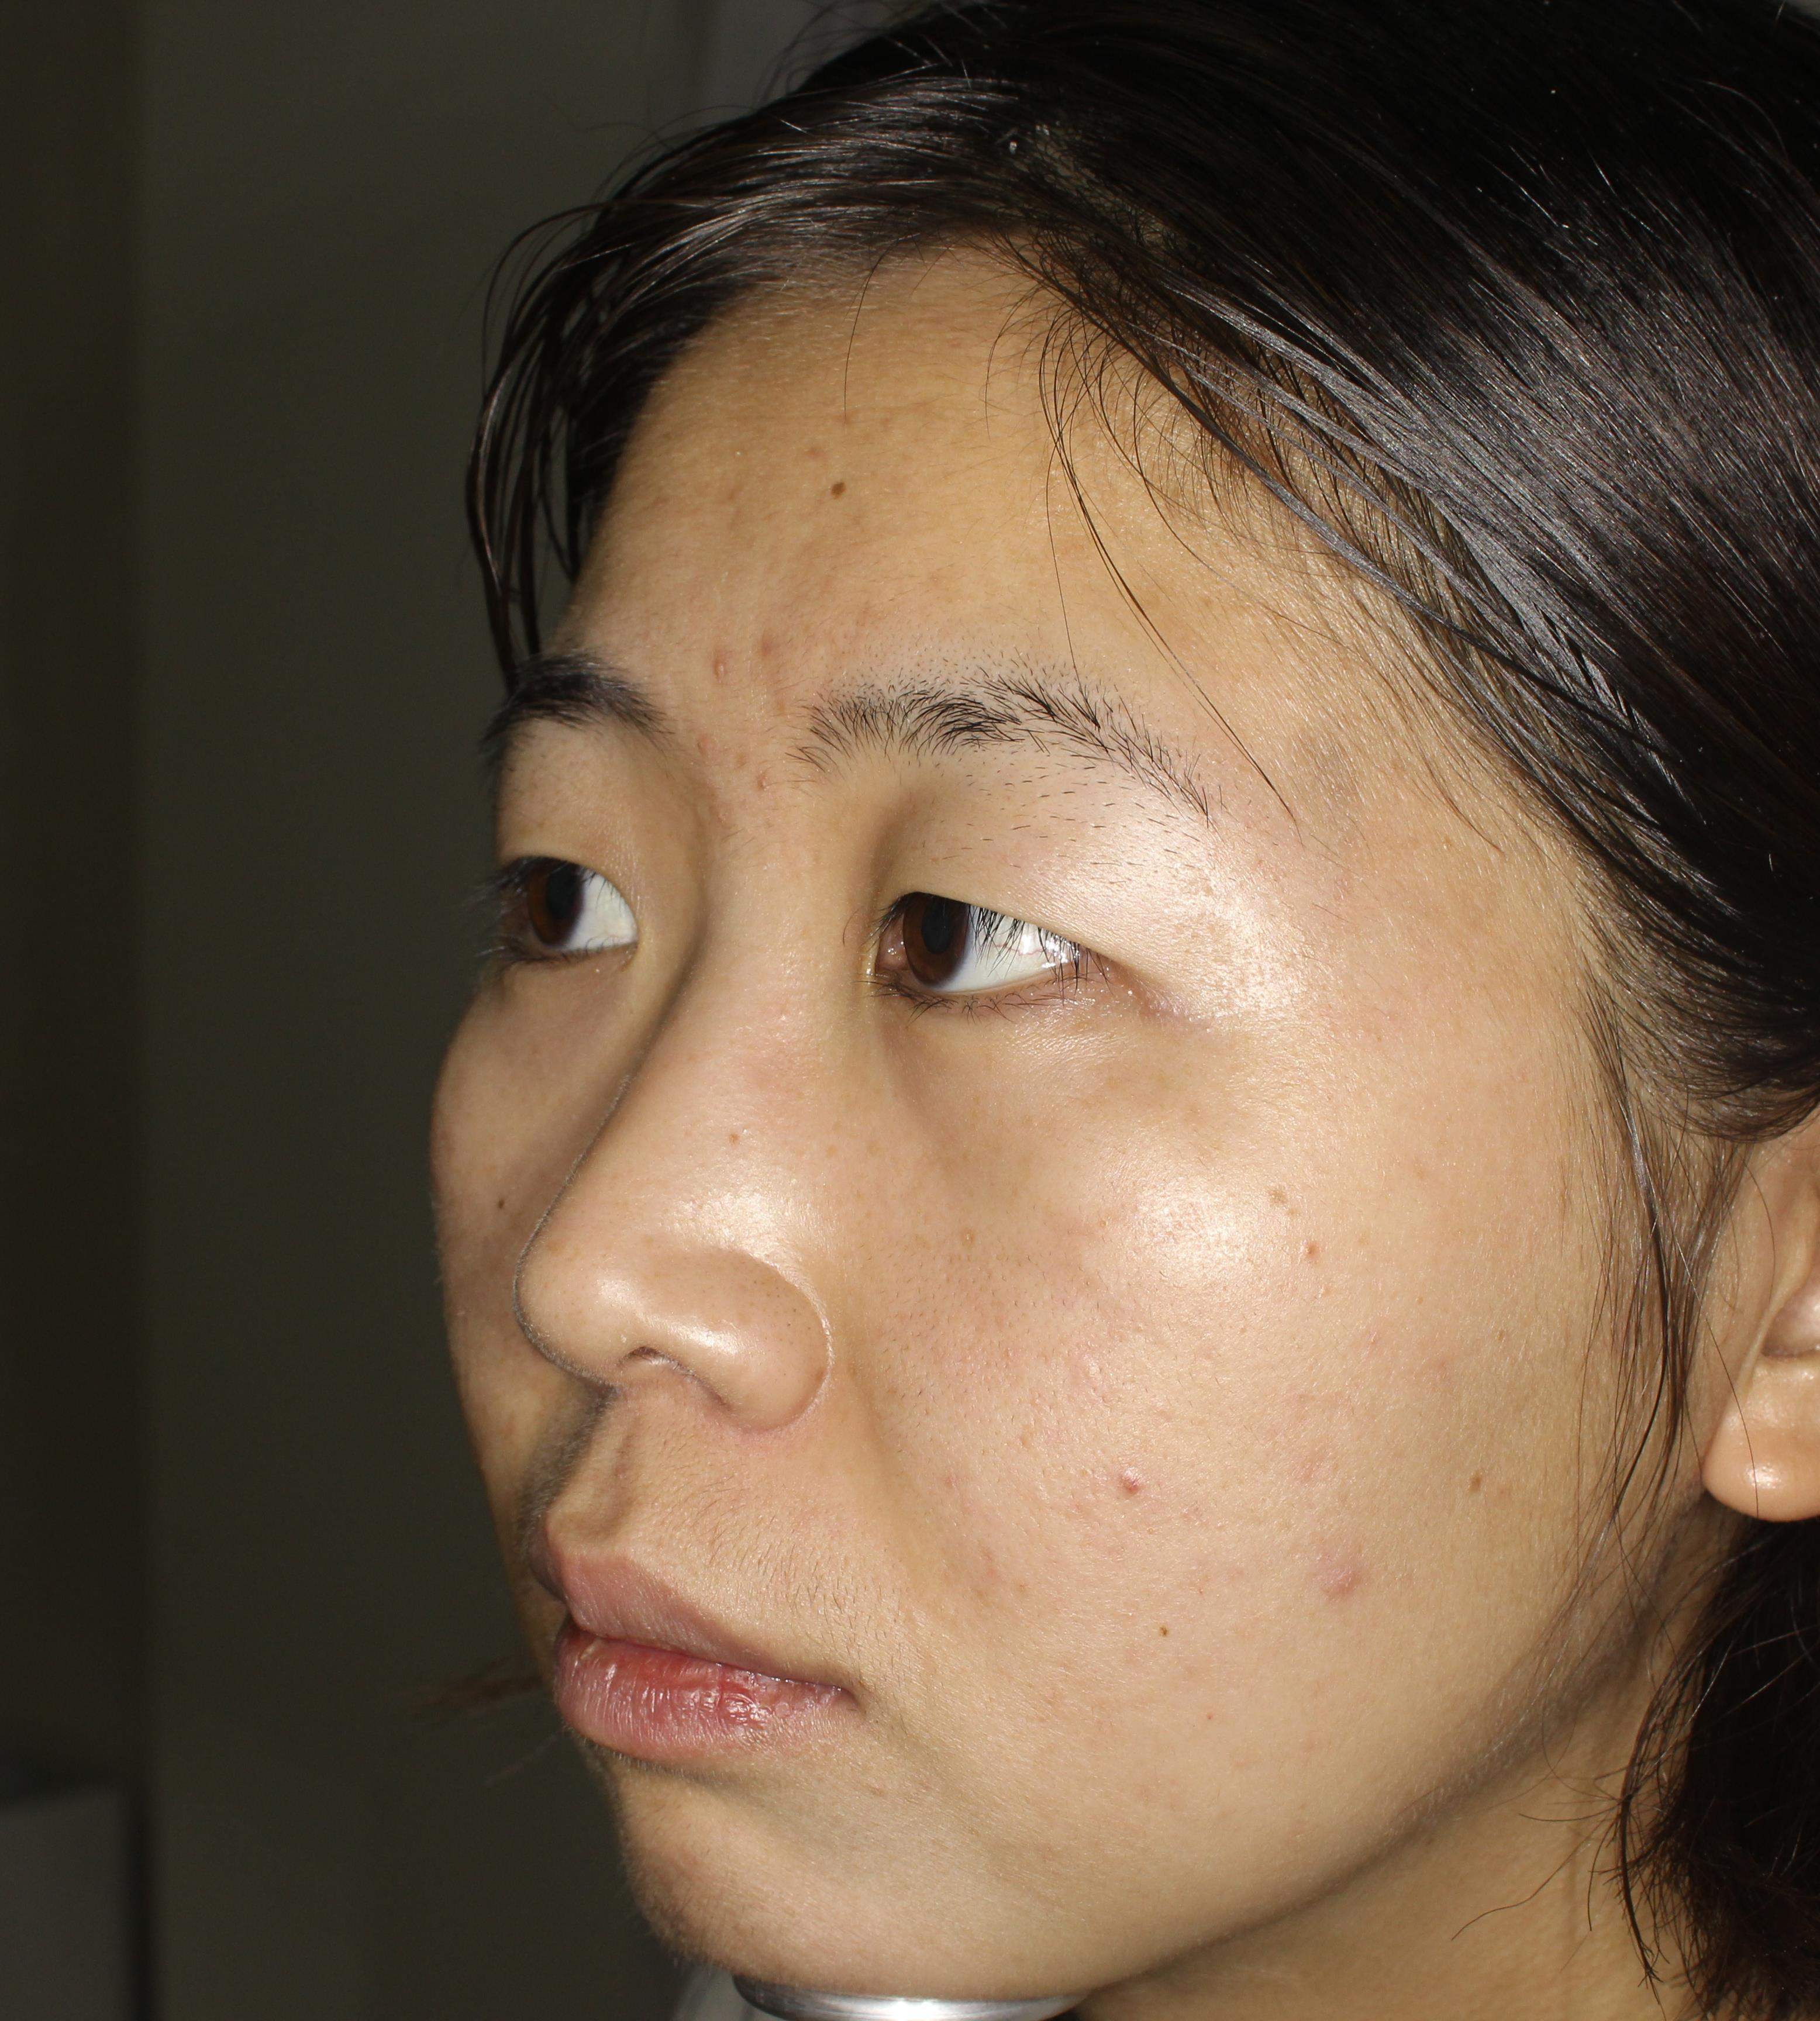fore: (690, 608, 817, 685), (1296, 1549, 1381, 1612)
